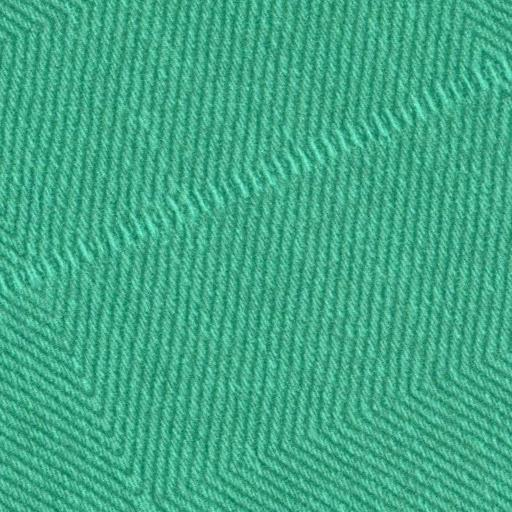slub: (2, 52, 512, 309)
